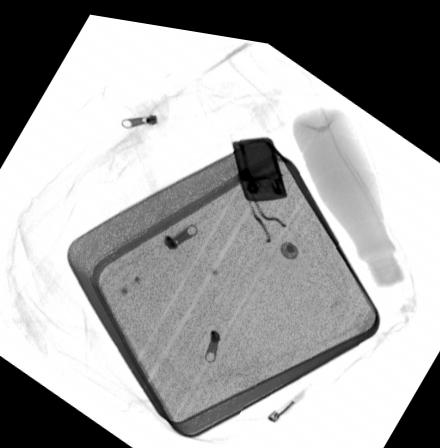Lighter: (230, 126, 287, 194)
